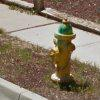Hydrant: (45, 14, 84, 86)
